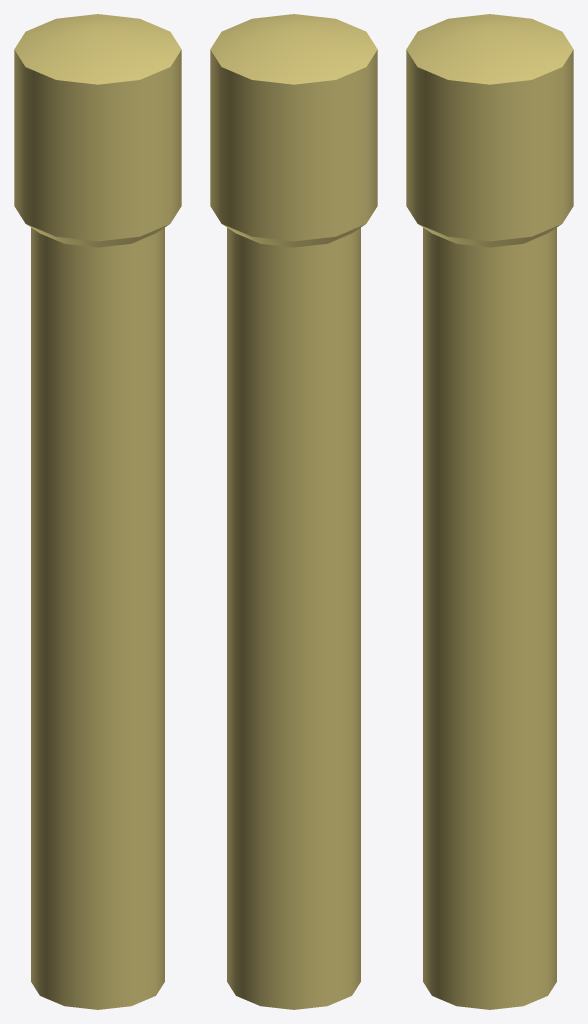
3 views of the same model, side by side, from view 1: azimuth 30°, elevation 25°; view 2: azimuth 150°, elevation 25°; view 3: azimuth 270°, elevation 25° (orthographic).
Visible parts, largest first — view 1: Joint_0_Object_0; view 2: Joint_0_Object_0; view 3: Joint_0_Object_0.
Part boxes in pixels (x1,y1,x2,y2): Joint_0_Object_0: (14,14,181,1009); Joint_0_Object_0: (210,14,377,1009); Joint_0_Object_0: (406,14,573,1009).
Bounding box in the file's own units: 250 × 1565 × 250.
